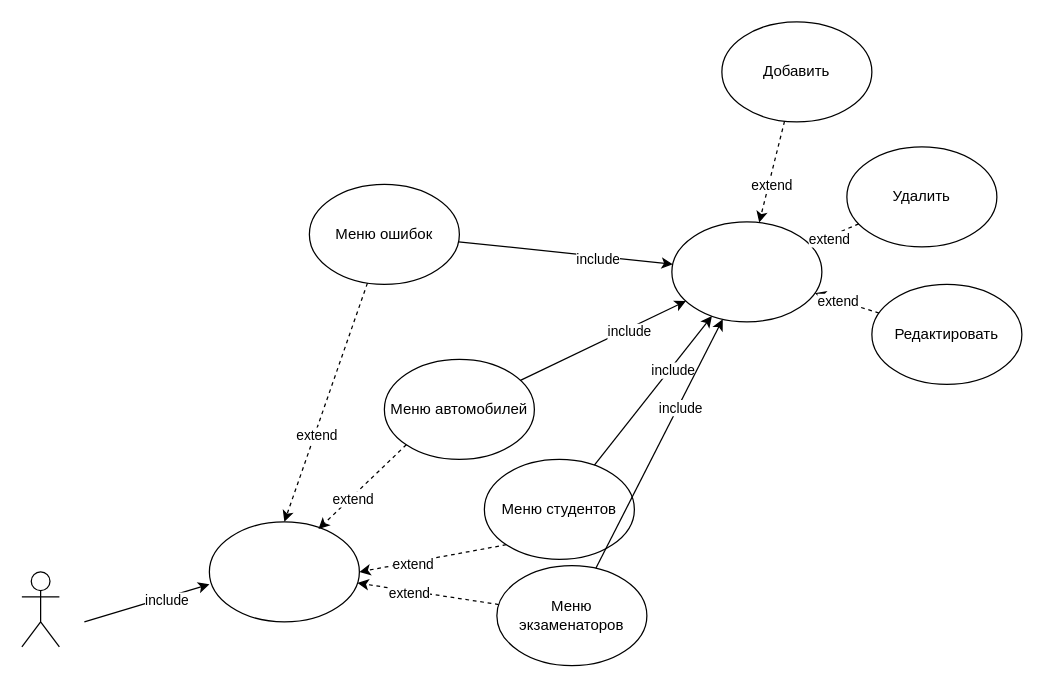
Image size: 1044x695. Some labels were removed from this diagram. The centre of each missing label's shape, as x and y in pixels:
"Actor" belongs at pixel 40 609.
"Действия" belongs at pixel 746 271.
"Меню" belongs at pixel 283 571.
